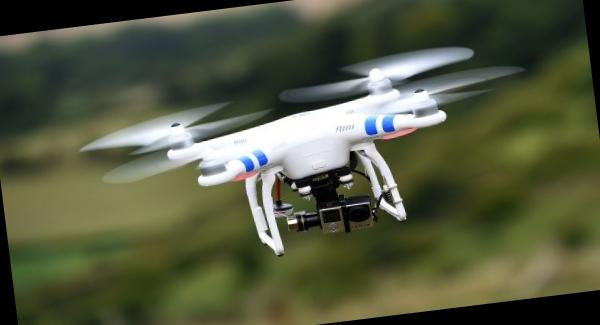drone: (109, 34, 534, 247)
